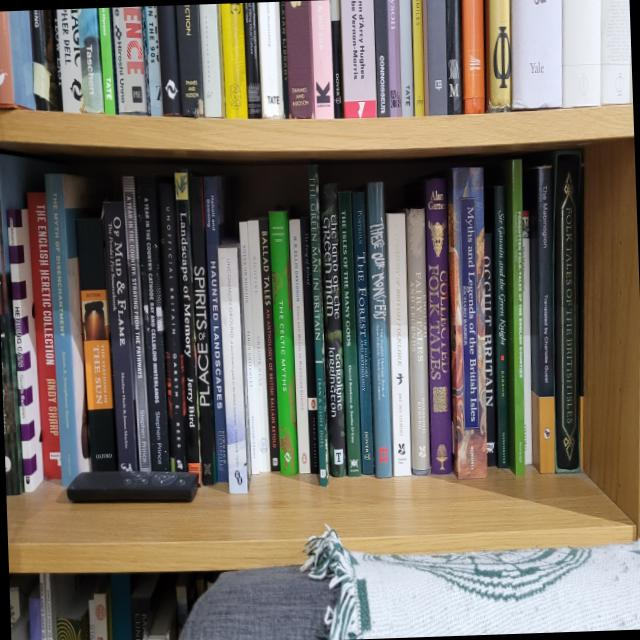book: (45, 172, 99, 487), (446, 168, 487, 478), (5, 207, 45, 493), (75, 216, 118, 471), (135, 176, 172, 471), (202, 177, 236, 482), (26, 191, 62, 479), (101, 200, 139, 472), (552, 151, 584, 472), (121, 175, 152, 471), (173, 169, 202, 483), (364, 182, 394, 478), (423, 178, 453, 474), (157, 180, 187, 472), (484, 185, 514, 467), (319, 184, 347, 478), (267, 210, 298, 475), (217, 240, 249, 495), (524, 165, 559, 397), (306, 164, 331, 487), (501, 160, 525, 476), (404, 207, 431, 475), (337, 190, 362, 477), (385, 213, 412, 475), (246, 220, 272, 473), (351, 192, 374, 474), (237, 220, 261, 474), (258, 217, 281, 471), (289, 218, 310, 474), (300, 216, 319, 474), (482, 232, 497, 465), (521, 210, 533, 464)
